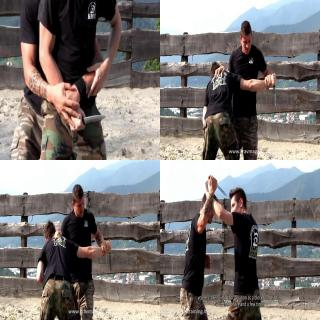knife: (70, 110, 108, 134), (207, 173, 227, 197), (270, 71, 276, 107), (106, 237, 112, 273)
